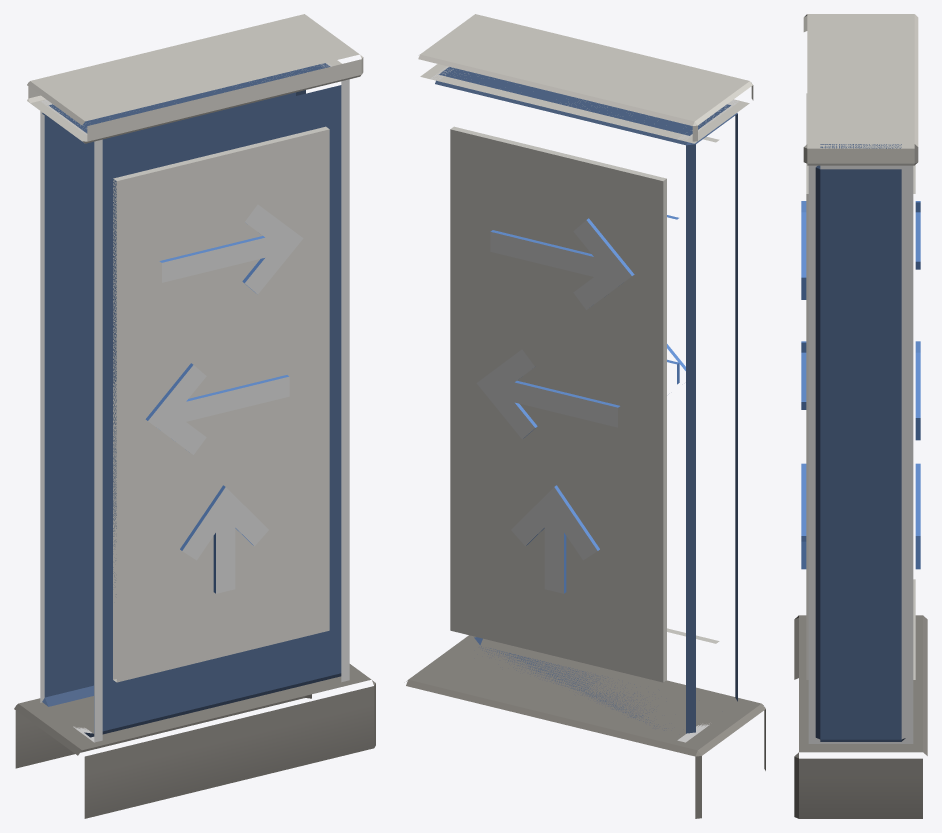
Rendered from gate_totem.glb.
The picture shows the model from 3 angles, left to right: view 1: azimuth 30°, elevation 25°; view 2: azimuth 150°, elevation 25°; view 3: azimuth 270°, elevation 25°; orthographic projection. The views are drawn at different scales.
Visible parts, largest first — view 1: gate_totem; view 2: gate_totem; view 3: gate_totem.
Part boxes in pixels (bbox=[...]): gate_totem: bbox=[14, 14, 375, 818]; gate_totem: bbox=[406, 14, 765, 818]; gate_totem: bbox=[794, 14, 927, 818].
Size of the model in its own units: 1.4 by 3.1 by 0.56.
